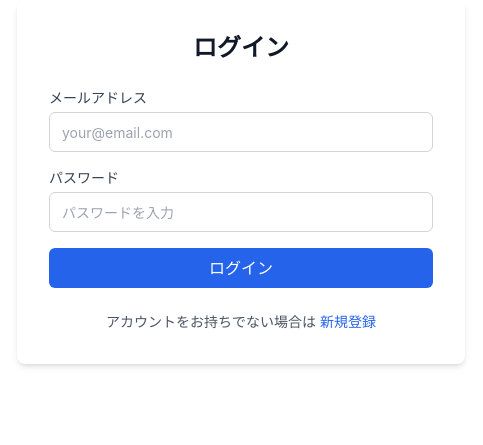
Scenario: LoginForm › should validate password length
In the field labelled "メールアドレス": {"x": 241, "y": 132} [49,112,433,152], type "test@example.com"
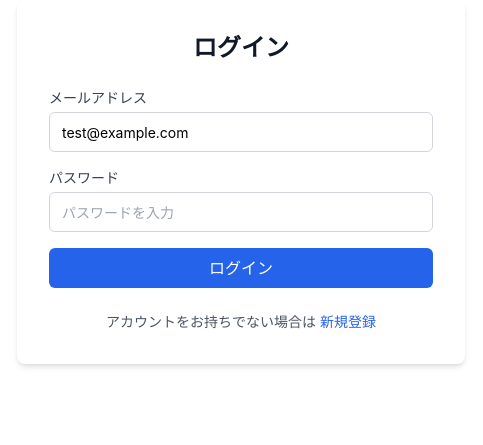
In the password field labelled "パスワード": {"x": 241, "y": 212} [49,192,433,232], type "123"
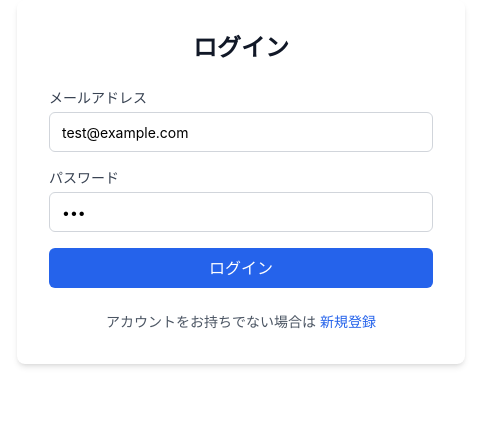
Click the button "ログイン": {"x": 241, "y": 268} [49,248,433,288]
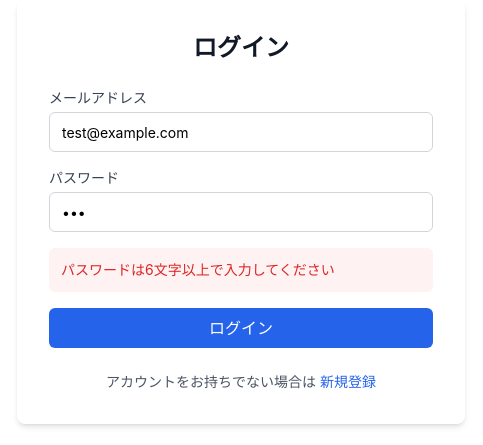
Result: the text "パスワードは6文字以上で入力してください" is shown at [61,261,335,278]
